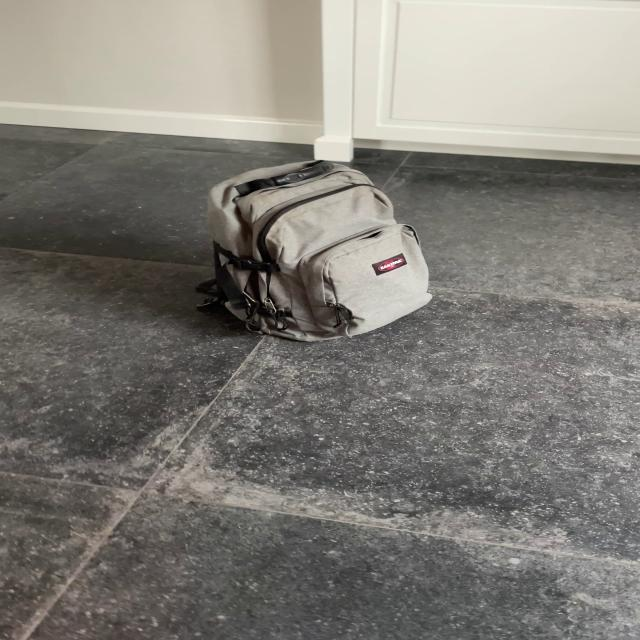backpack: (190, 156, 438, 346)
